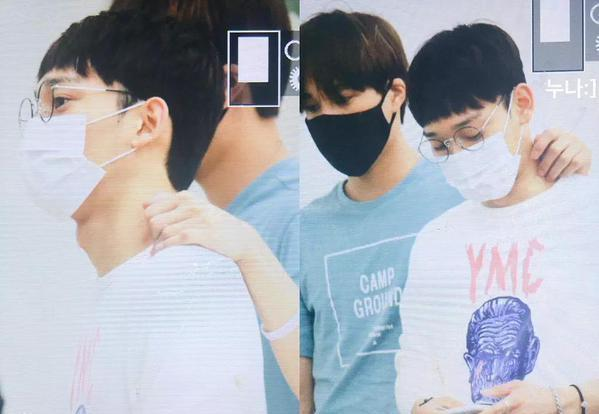OK: (12, 74, 159, 221), (302, 76, 403, 177), (422, 110, 514, 202)
